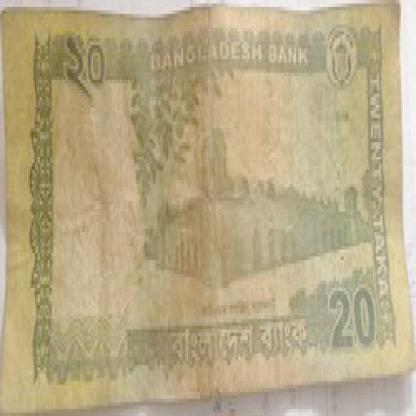Twenty: (63, 31, 123, 118), (324, 288, 382, 364)
